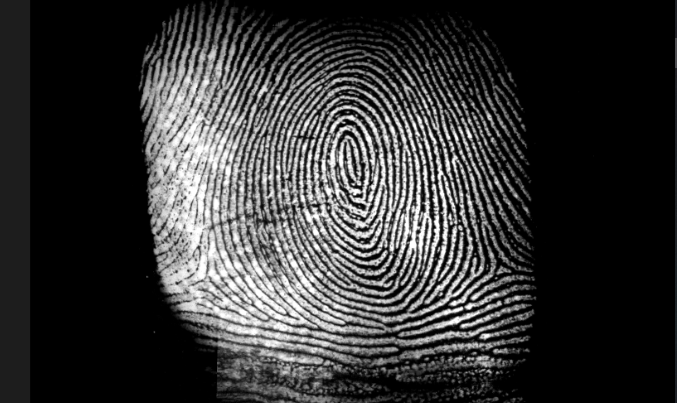nucelo: (334, 134, 370, 199)
verticilo: (480, 246, 525, 285), (187, 254, 225, 296)
